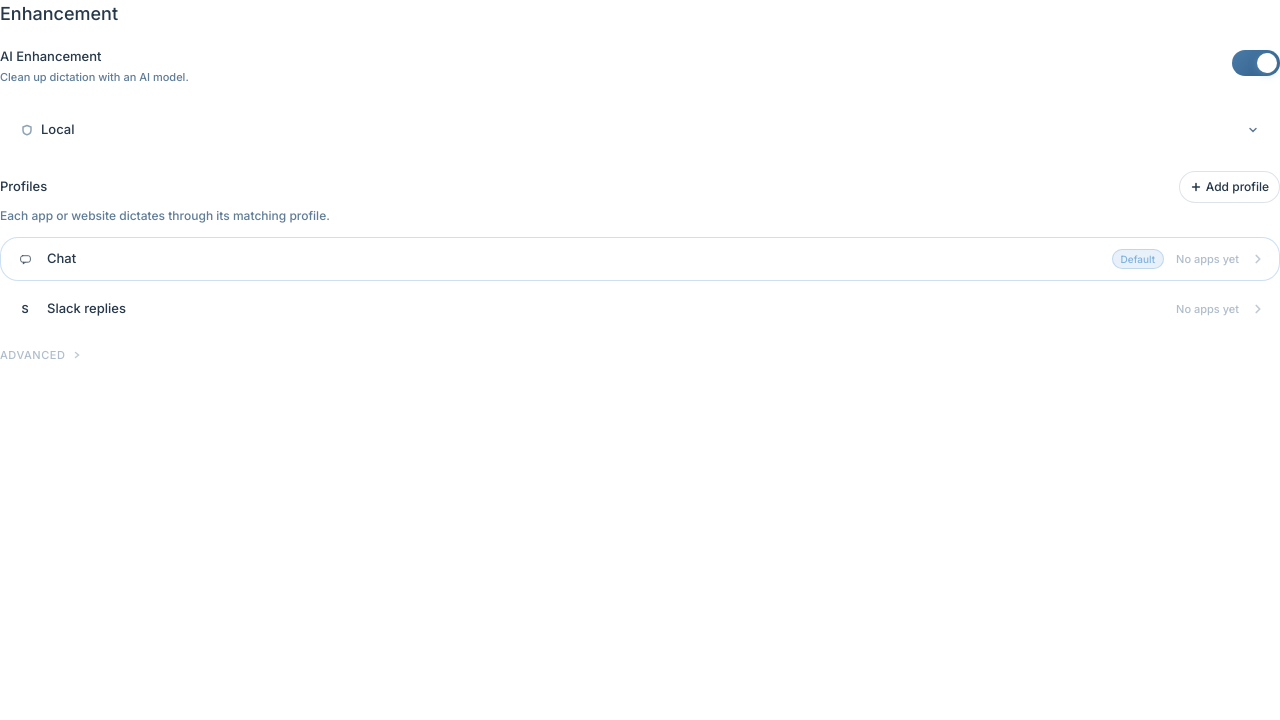
Enhancement — Stream-1 Mini local picker › Change model in the profile editor closes it and opens the local picker without switching
The width and height of the screenshot is (1280, 720).
Expected: the button "Local" is shown, [1,106,1279,154]
Step 1. Click the button with aria-label "Edit Slack replies" → (86,308), box [0,287,1279,331]
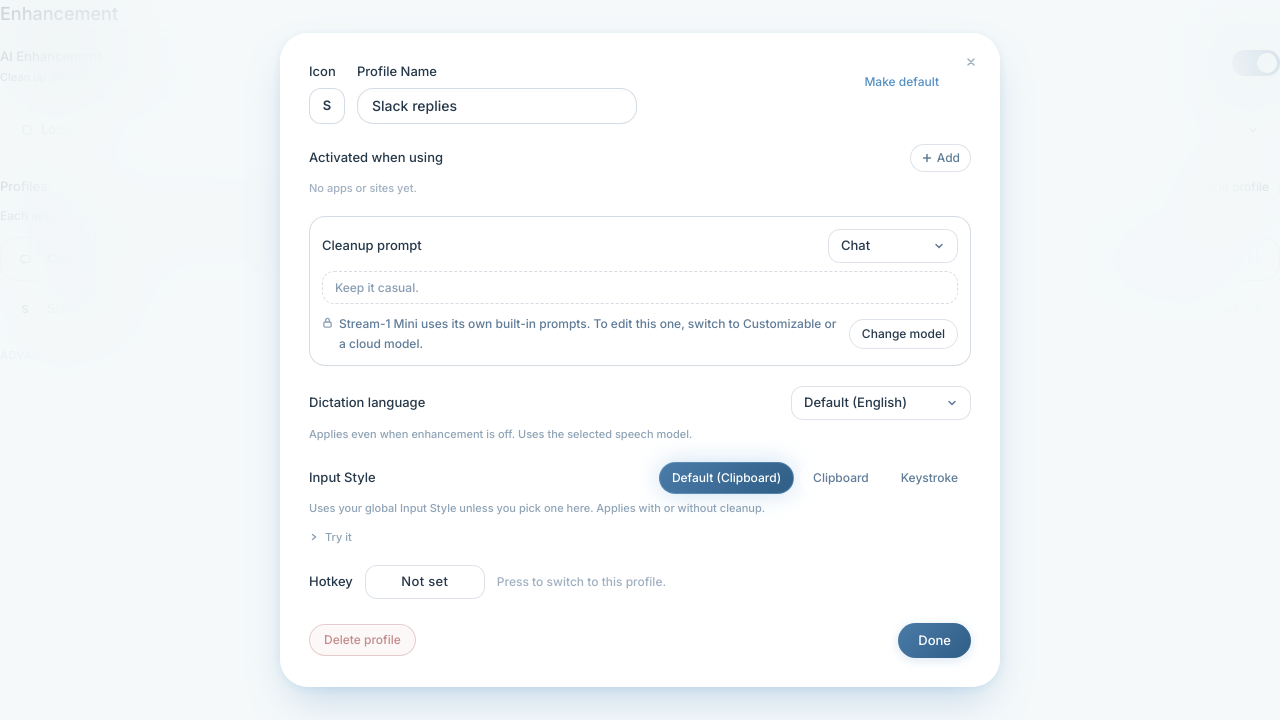
Expected: the field named "Slack replies cleanup prompt" reads "Keep it casual.", [335,280,419,294]
Step 2. Click the button "Change model" → (903,334), box [849,318,958,348]
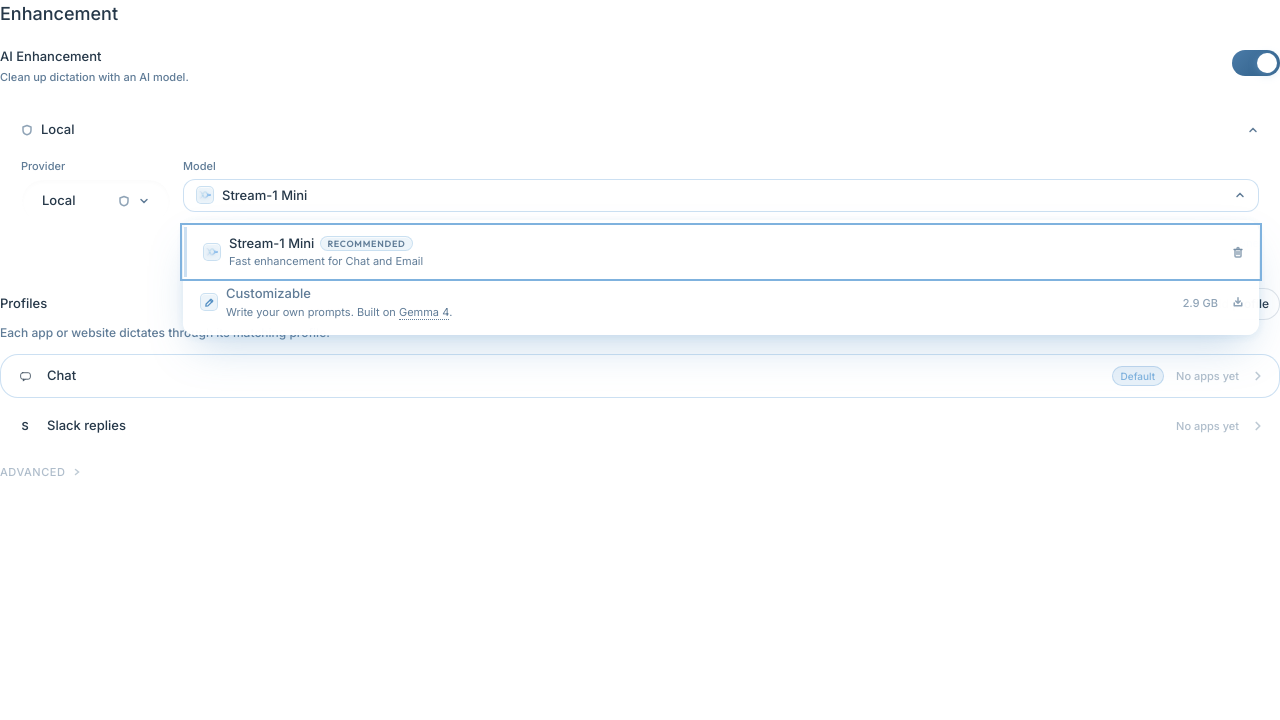
Expected: the number of options is 2, [184,227,1258,277]; [184,277,1258,328]
